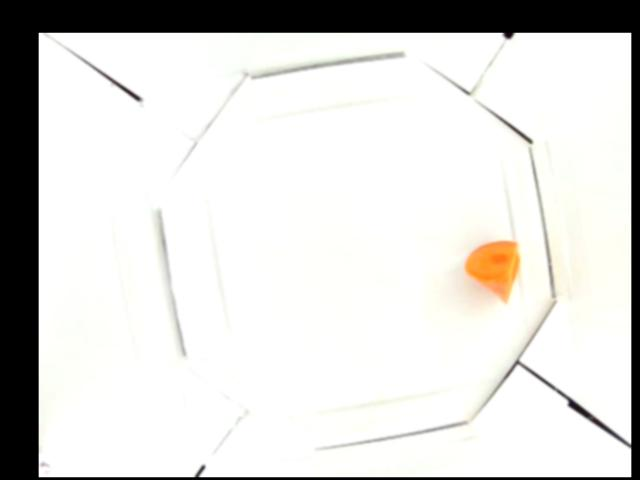Carrot: (465, 240, 520, 304)
